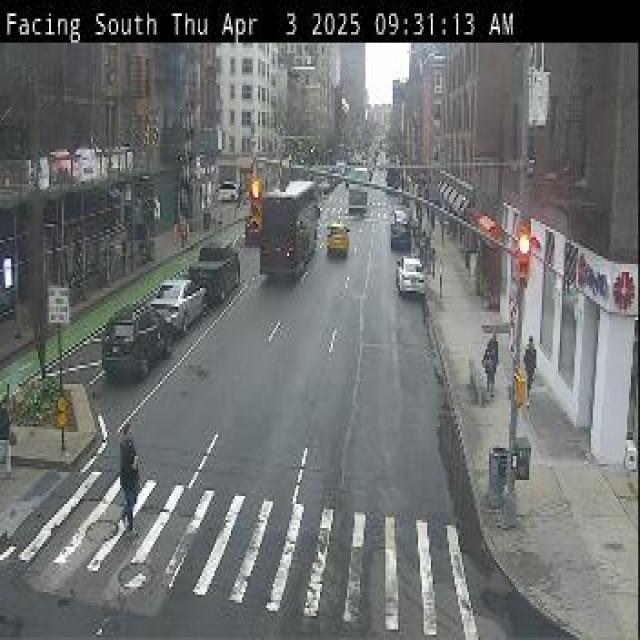open parking: (387, 186, 451, 333), (212, 186, 262, 372)
